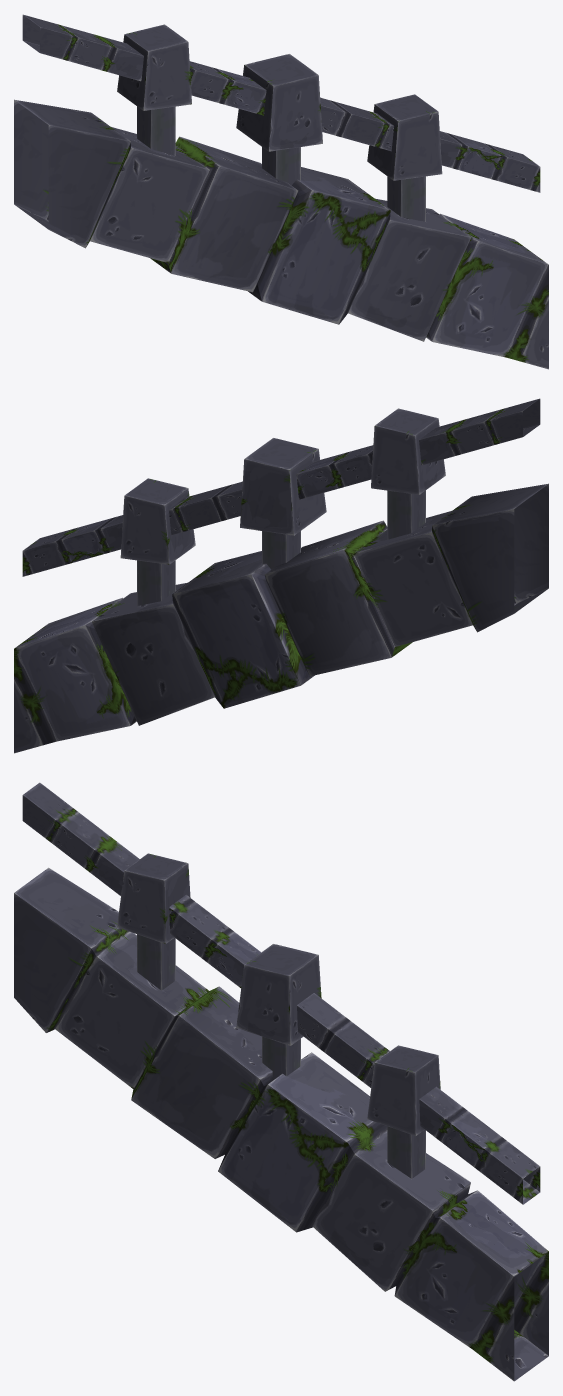
The model's file is MOD_Stairs_01_Railing_3.fbx.
3 views of the same model, one above another, from view 1: azimuth 30°, elevation 25°; view 2: azimuth 150°, elevation 25°; view 3: azimuth 330°, elevation 25° (orthographic).
Parts seen in each view (by area): view 1: MOD_Stairs_01_Railing_3; view 2: MOD_Stairs_01_Railing_3; view 3: MOD_Stairs_01_Railing_3.
Boxes of the visible parts, x1=… form: MOD_Stairs_01_Railing_3: x1=14, y1=14, x2=548, y2=369; MOD_Stairs_01_Railing_3: x1=14, y1=398, x2=548, y2=753; MOD_Stairs_01_Railing_3: x1=14, y1=782, x2=548, y2=1381.
Size of what is drawn, in the model's own units: 400 by 350 by 60.92.
